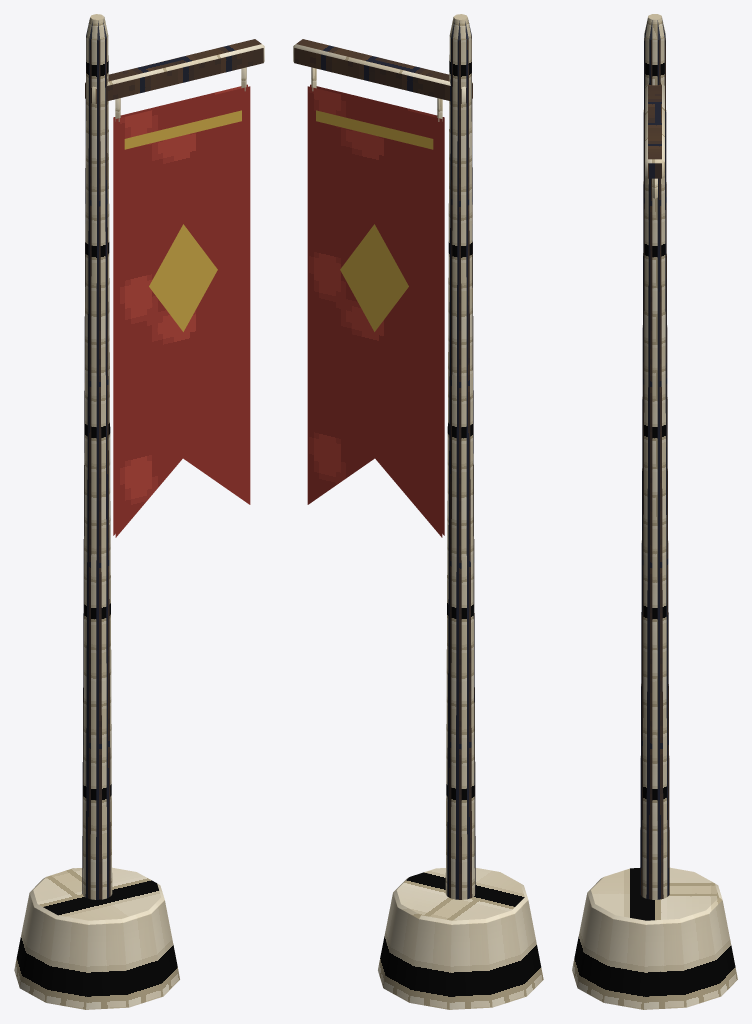
File: banner_pole_0.glb
The picture shows the model from 3 angles, left to right: view 1: azimuth 30°, elevation 25°; view 2: azimuth 150°, elevation 25°; view 3: azimuth 270°, elevation 25°; orthographic projection.
Parts seen in each view (by area): view 1: banner_pole_1; view 2: banner_pole_1; view 3: banner_pole_1.
Part boxes in pixels (x1,y1,x2,y2): banner_pole_1: (14,14,264,1009); banner_pole_1: (293,14,543,1009); banner_pole_1: (572,14,737,1009).
Size of the model in its own units: 1.37 by 5.3 by 0.8325.
Materials: 5 (5 with a texture image).
